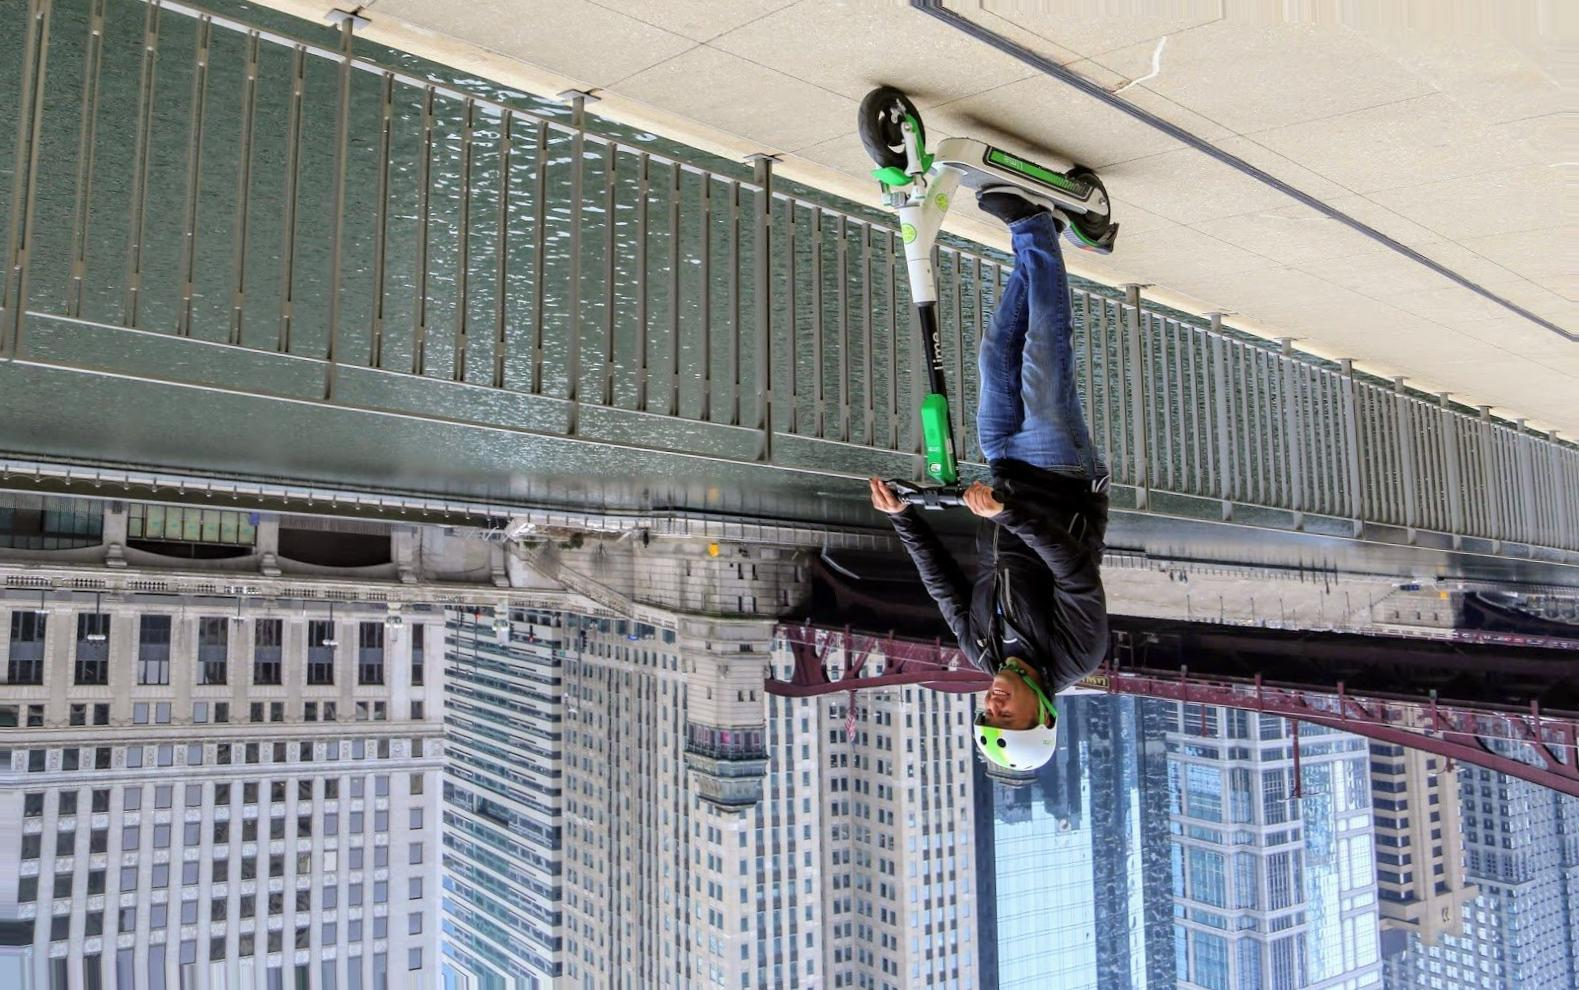scooter: (855, 87, 1120, 518)
with helmet: (972, 668, 1059, 772)
